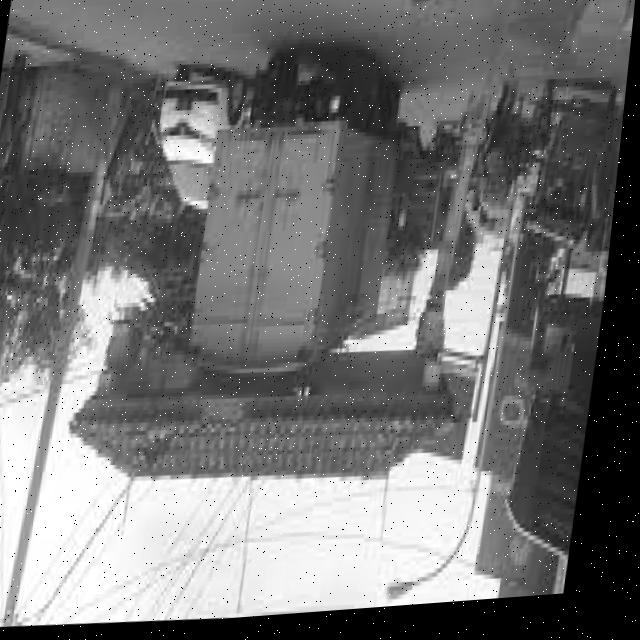truck: (183, 41, 425, 398)
